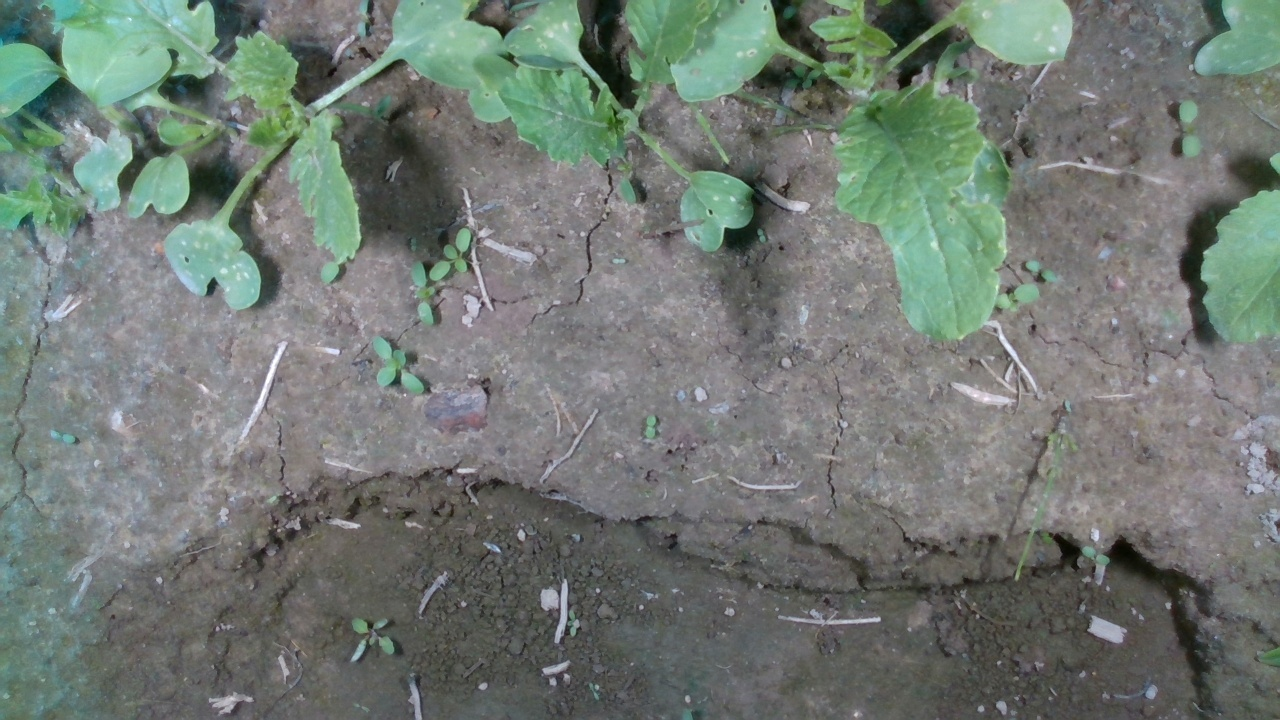weed: (370, 335, 424, 397), (349, 616, 396, 667), (1176, 99, 1203, 160), (1023, 258, 1059, 285), (1081, 544, 1111, 566), (48, 428, 77, 445), (644, 414, 657, 440), (755, 228, 767, 244)
